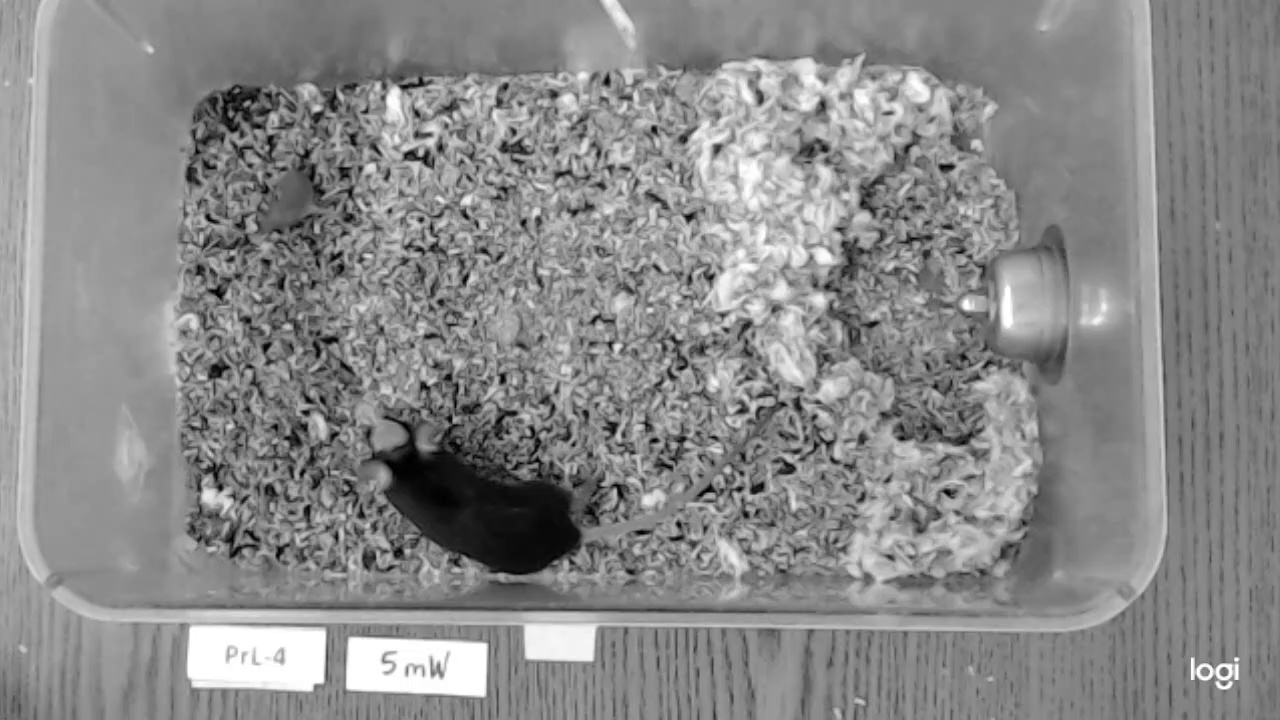child-mice: (257, 170, 317, 234)
